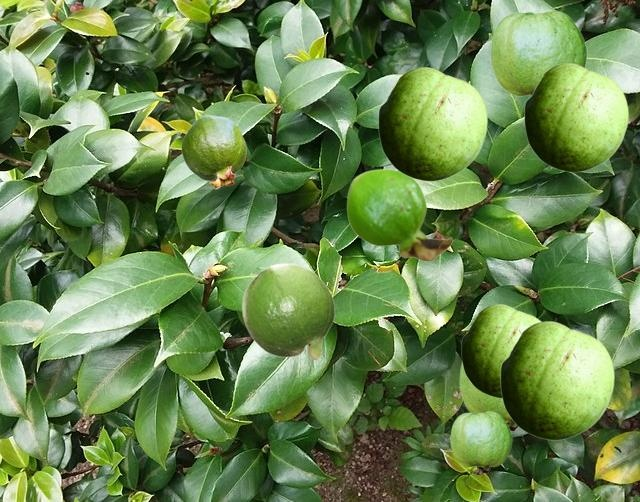guava: (500, 321, 613, 439), (378, 67, 486, 180), (524, 63, 627, 171), (346, 168, 452, 261), (241, 262, 334, 360), (490, 10, 586, 96), (461, 304, 541, 397), (181, 115, 245, 188), (459, 363, 517, 432), (450, 411, 511, 474)
